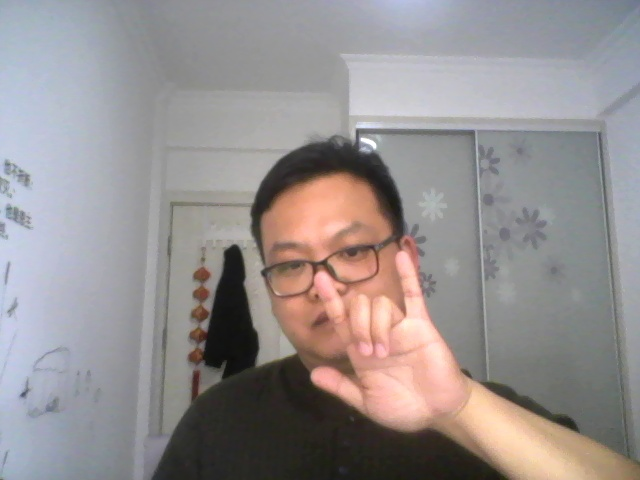I Love You: (304, 246, 475, 444)
